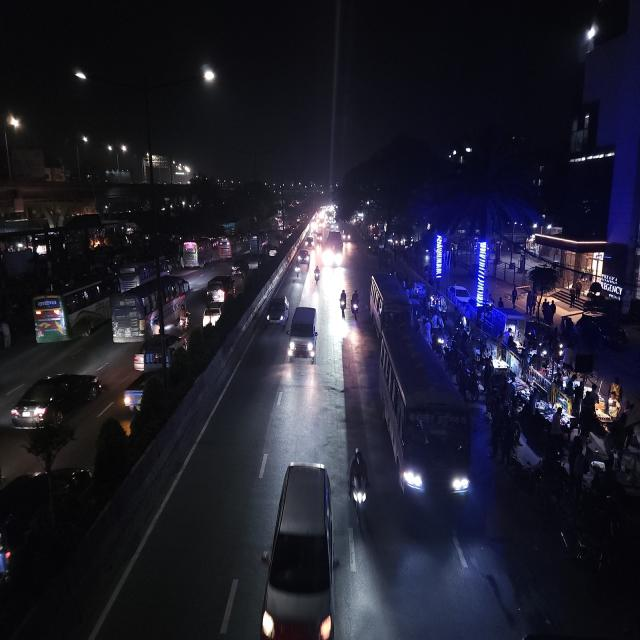bus: (376, 324, 474, 530), (110, 273, 193, 345), (28, 275, 114, 343), (368, 271, 409, 340), (180, 238, 212, 270), (324, 227, 344, 270), (216, 232, 246, 260)
car: (262, 458, 341, 640), (0, 457, 90, 597), (8, 368, 104, 435), (131, 329, 190, 375), (288, 302, 320, 365), (204, 274, 242, 304), (265, 292, 289, 329), (447, 282, 471, 311), (201, 301, 223, 332), (297, 250, 311, 274), (231, 260, 247, 278), (268, 243, 278, 260), (305, 234, 315, 250)
motorcycle: (348, 445, 370, 528), (176, 306, 192, 332), (350, 287, 360, 319), (339, 286, 348, 319), (312, 263, 322, 286)
pickup_van: (122, 344, 173, 413)
truck: (297, 249, 310, 272)
